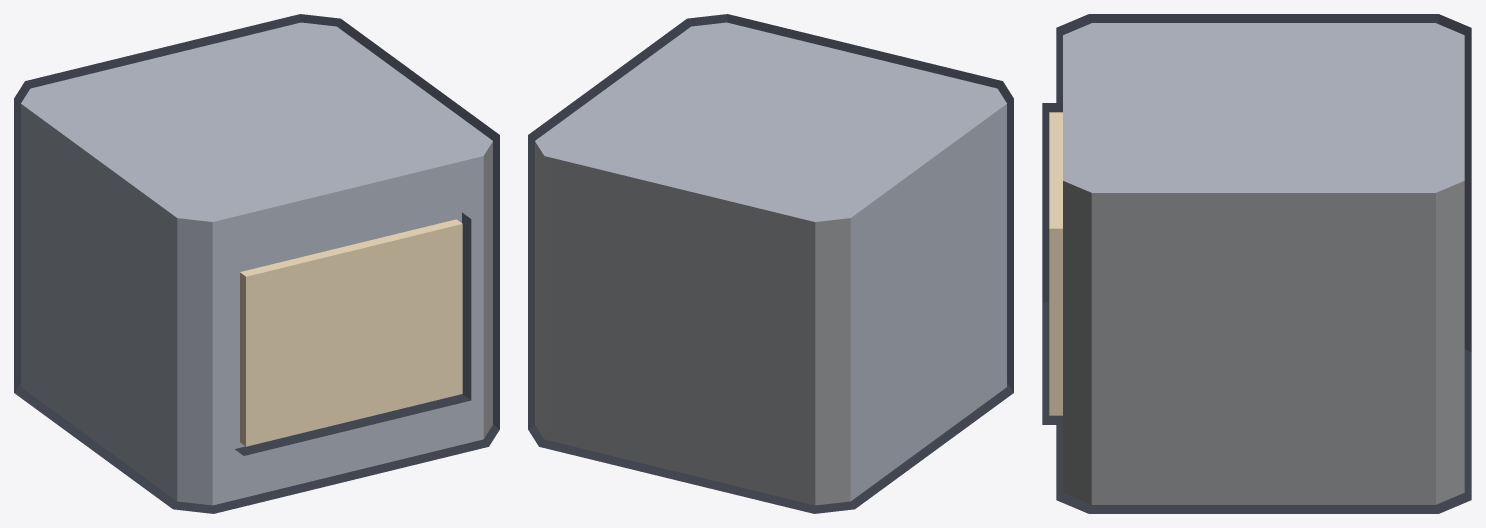
The model's file is weight_block.glb.
3 renders of one model, left to right at view 1: azimuth 30°, elevation 25°; view 2: azimuth 150°, elevation 25°; view 3: azimuth 270°, elevation 25°, orthographic. The views are drawn at different scales.
Parts seen in each view (by area): view 1: block, ink_outline; view 2: block, ink_outline; view 3: block, ink_outline.
Part boxes in pixels (x1=…): block: x1=21, y1=22, x2=492, y2=505; ink_outline: x1=14, y1=14, x2=499, y2=513; block: x1=535, y1=22, x2=1006, y2=505; ink_outline: x1=528, y1=14, x2=1013, y2=513; block: x1=1049, y1=23, x2=1464, y2=504; ink_outline: x1=1042, y1=14, x2=1471, y2=513.
Bounding box in the file's own units: 0.0362 × 0.0312 × 0.0374.
